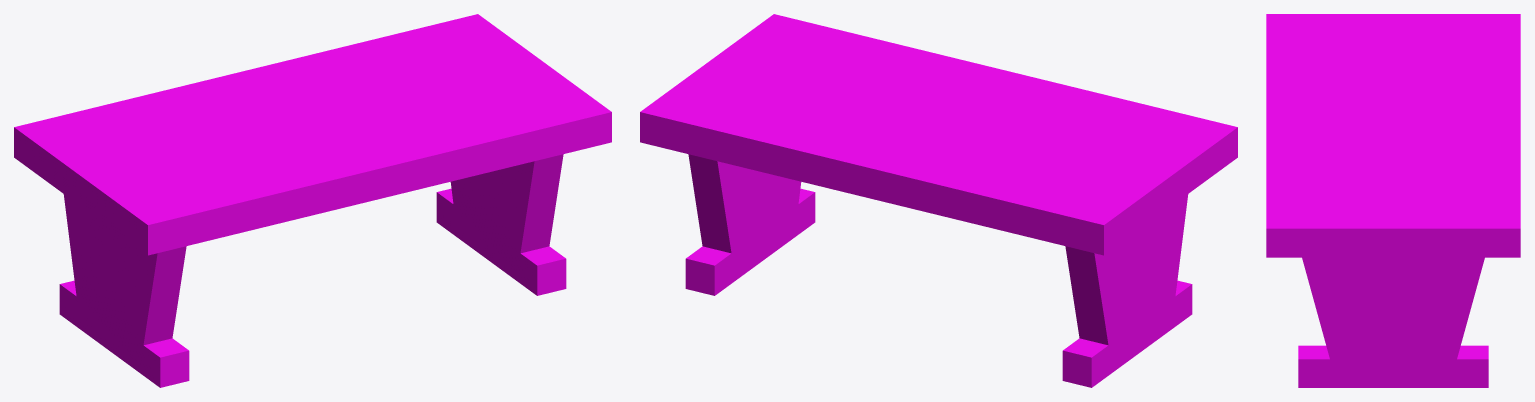
Rendered from bigtable.obj.
3 renders of one model, left to right at view 1: azimuth 30°, elevation 25°; view 2: azimuth 150°, elevation 25°; view 3: azimuth 270°, elevation 25°, orthographic. The views are drawn at different scales.
Parts seen in each view (by area): view 1: bigtable_back; view 2: bigtable_back; view 3: bigtable_back.
Boxes of the visible parts, box(x1,y1,x2,y2) form: bigtable_back: box(14, 14, 611, 387); bigtable_back: box(640, 14, 1237, 387); bigtable_back: box(1266, 14, 1520, 387).
Bounding box in the file's own units: 2.56 × 0.96 × 1.28.
